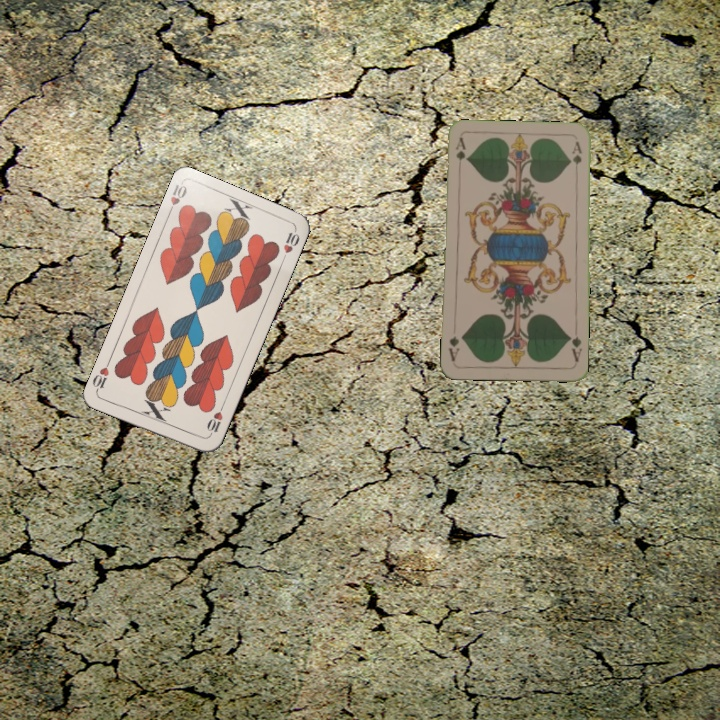GA: (451, 134, 468, 175), (565, 332, 584, 365)
H10: (163, 179, 190, 218), (203, 401, 226, 440)
